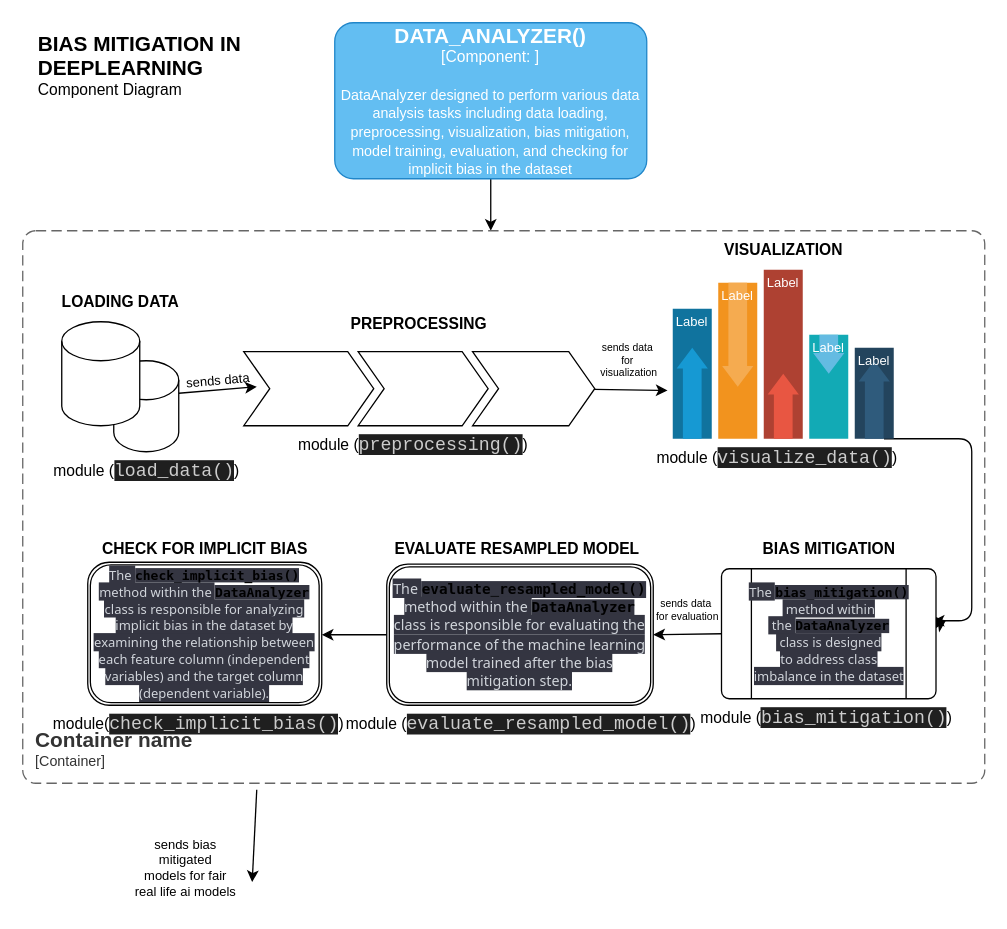
The diagram is 1007 pixels wide and 929 high, and some of its shapes have lost their labels. The shapes that lost their labels are listed below. From the top down, each one's centre as x and y in pixels, then its label:
At [100,373]: "raw data".
At [308,388]: "getting dataset".
At [422,388]: "split for test and train".
At [533,388]: "feature scaling".
